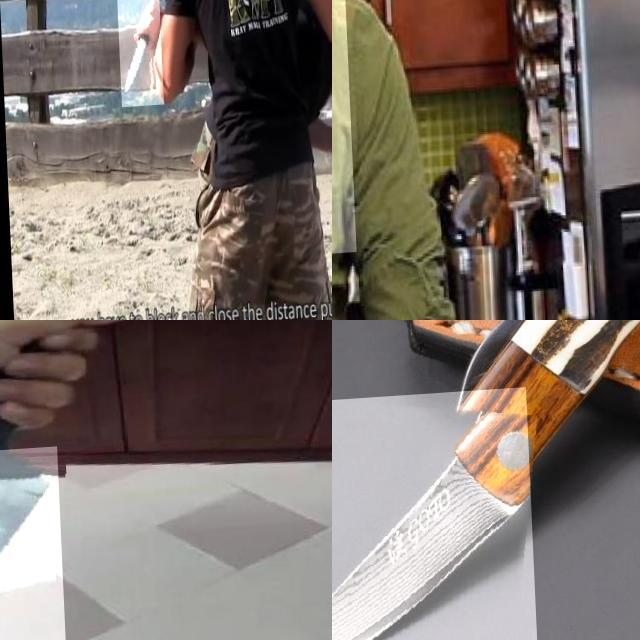-: (332, 391, 534, 640), (332, 0, 470, 270), (0, 449, 101, 640), (114, 0, 160, 108)
